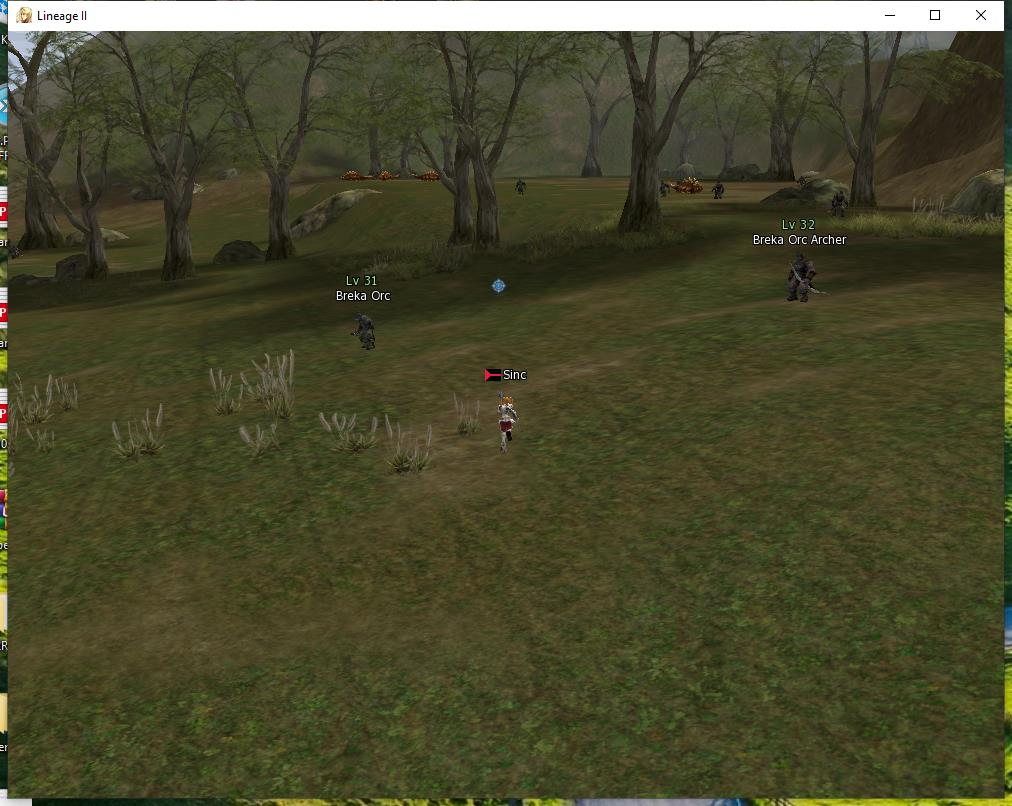monster: (751, 214, 844, 311), (330, 265, 395, 353), (670, 169, 702, 197), (514, 175, 529, 196), (717, 178, 726, 197)
